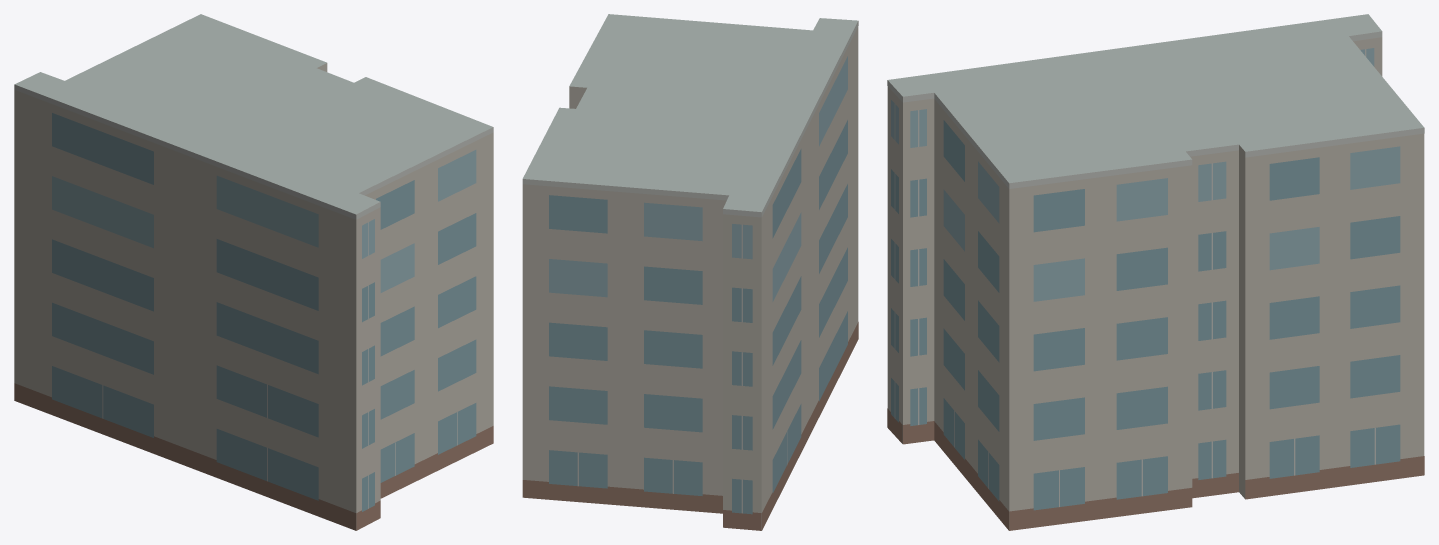
Rendered from survey-upis-32720372.glb.
3 views of the same model, side by side, from view 1: azimuth 30°, elevation 25°; view 2: azimuth 150°, elevation 25°; view 3: azimuth 270°, elevation 25° (orthographic). The views are drawn at different scales.
Parts seen in each view (by area): view 1: survey-upis-32720372.tmp; view 2: survey-upis-32720372.tmp; view 3: survey-upis-32720372.tmp.
Part boxes in pixels (bbox=[...]): survey-upis-32720372.tmp: bbox=[14, 14, 493, 530]; survey-upis-32720372.tmp: bbox=[522, 14, 858, 530]; survey-upis-32720372.tmp: bbox=[887, 14, 1424, 530].
Size of the model in its own units: 15.26 by 14.6 by 20.45.
